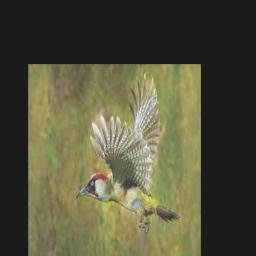Woodpecker: (75, 73, 181, 233)
